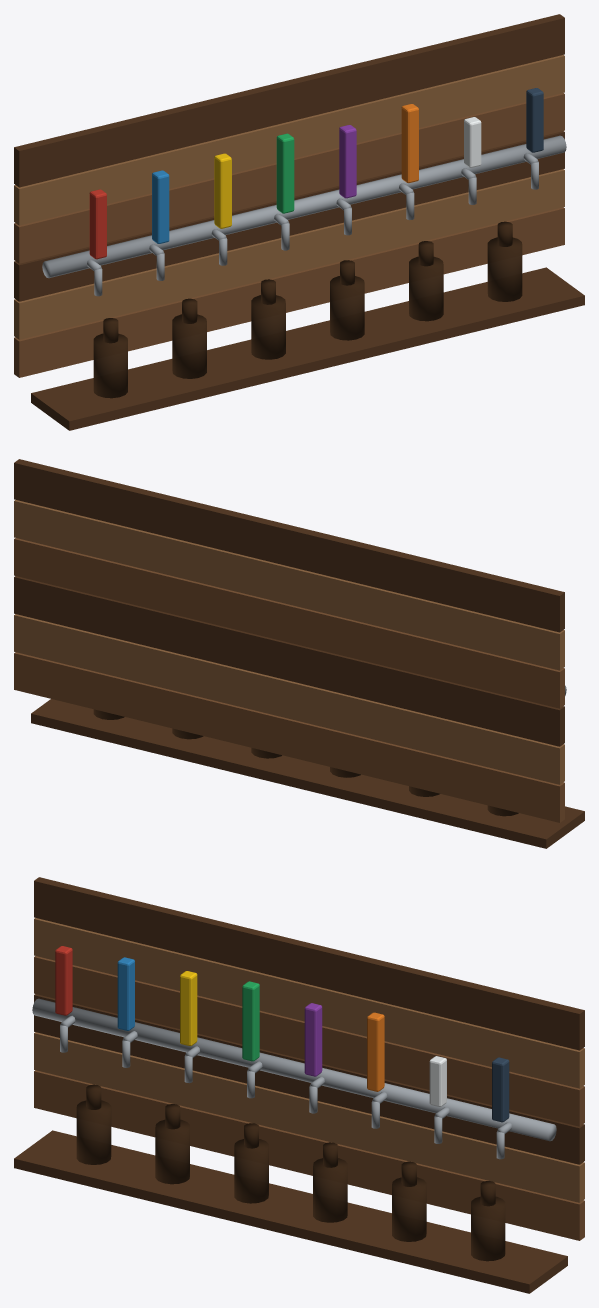
The model's file is taps.glb.
3 renders of one model, top to bottom at view 1: azimuth 30°, elevation 25°; view 2: azimuth 150°, elevation 25°; view 3: azimuth 330°, elevation 25°, orthographic.
Visible parts, largest first — view 1: panel5, panel1, shelf, panel4, panel3, panel0, panel2, tower, growler.005, growler.004, growler.002, growler (+10 smaller); view 2: panel5, panel0, panel2, panel3, panel1, panel4, shelf; view 3: panel5, panel1, shelf, panel4, panel3, panel0, panel2, tower, growler, growler.001, growler.002, growler.005 (+10 smaller).
Boxes of the visible parts, left/top/right/bottom form: panel5: left=14, top=14, right=564, bottom=187; panel1: left=14, top=169, right=564, bottom=339; shelf: left=31, top=267, right=584, bottom=430; panel4: left=14, top=55, right=564, bottom=225; panel3: left=14, top=93, right=564, bottom=263; panel0: left=14, top=207, right=564, bottom=377; panel2: left=14, top=131, right=564, bottom=301; tower: left=42, top=135, right=566, bottom=278; growler.005: left=487, top=237, right=522, bottom=301; growler.004: left=409, top=256, right=443, bottom=321; growler.002: left=251, top=295, right=285, bottom=359; growler: left=93, top=333, right=127, bottom=398; panel5: left=14, top=459, right=564, bottom=632; panel0: left=14, top=652, right=564, bottom=822; panel2: left=14, top=576, right=564, bottom=746; panel3: left=14, top=538, right=564, bottom=708; panel1: left=14, top=614, right=564, bottom=784; panel4: left=14, top=500, right=564, bottom=670; shelf: left=31, top=699, right=584, bottom=848; panel5: left=34, top=877, right=584, bottom=1050; panel1: left=34, top=1032, right=584, bottom=1202; shelf: left=14, top=1130, right=567, bottom=1293; panel4: left=34, top=918, right=584, bottom=1088; panel3: left=34, top=956, right=584, bottom=1126; panel0: left=34, top=1070, right=584, bottom=1240; panel2: left=34, top=994, right=584, bottom=1164; tower: left=32, top=998, right=556, bottom=1141; growler: left=76, top=1100, right=111, bottom=1164; growler.001: left=155, top=1119, right=189, bottom=1184; growler.002: left=234, top=1139, right=268, bottom=1203; growler.005: left=471, top=1196, right=505, bottom=1261.
Bounding box in the file's own units: 1.8 × 0.8125 × 0.23.
